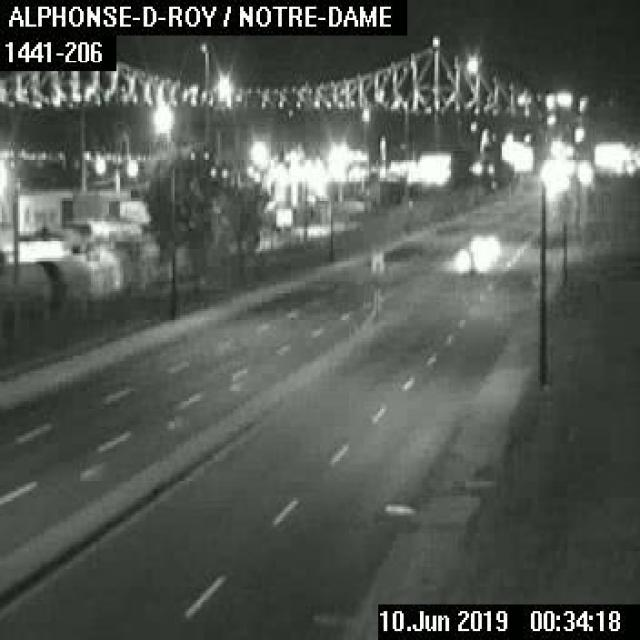vehicle: (451, 243, 493, 273)
